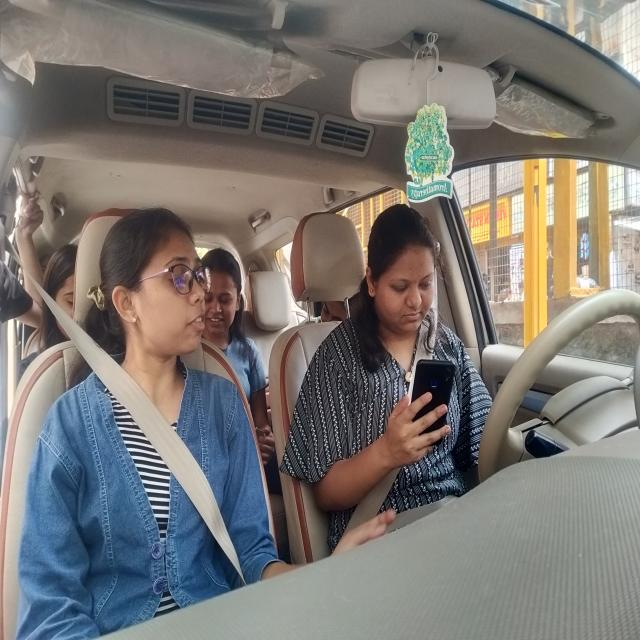mobile: (407, 351, 465, 476)
person: (97, 185, 211, 395), (356, 202, 449, 338), (197, 240, 251, 354), (36, 224, 82, 356)
